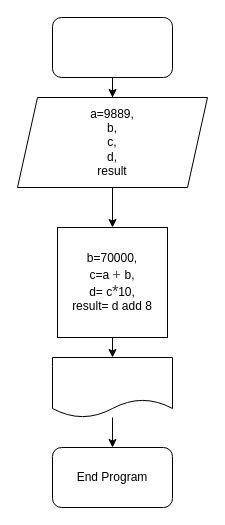
Some shapes in this 225 by 525 pixel diagram are drawn without their labels. Each missing label, with the centre of its shape:
"Result" goes at (x=112, y=387).
"Start Program" goes at (x=112, y=47).
